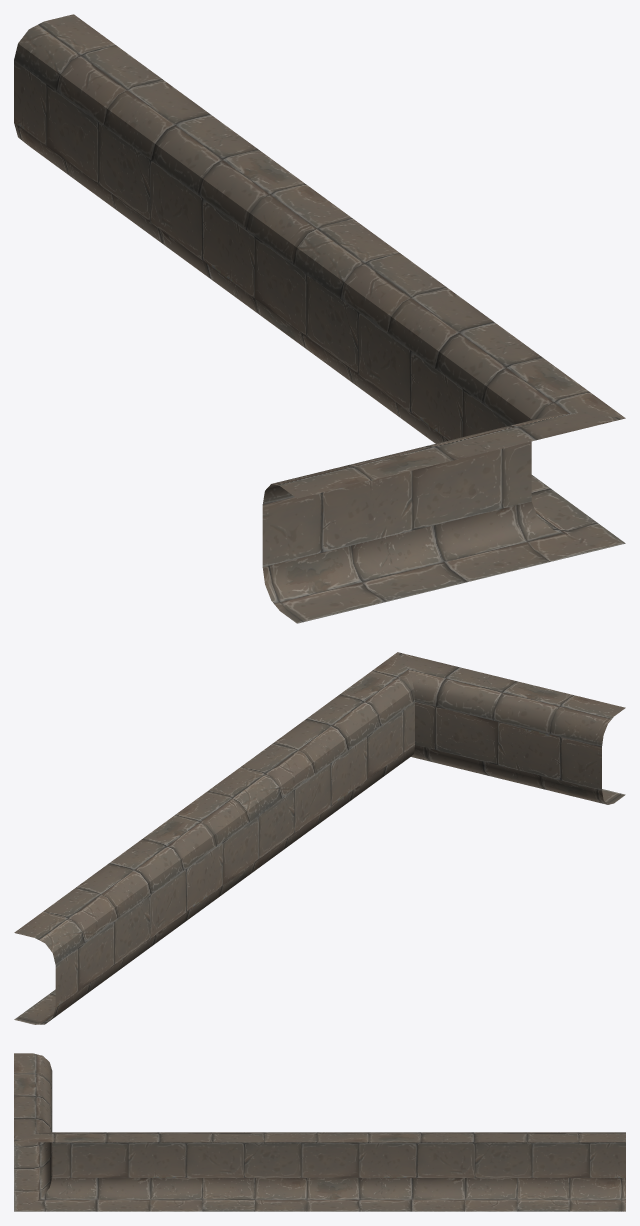
The model's file is Ruins_LedgeCorner_Broken_01a.fbx.
The picture shows the model from 3 angles, top to bottom: view 1: azimuth 30°, elevation 25°; view 2: azimuth 150°, elevation 25°; view 3: azimuth 270°, elevation 25°; orthographic projection. The views are drawn at different scales.
Parts seen in each view (by area): view 1: Ruins_LedgeCorner_Broken_01a; view 2: Ruins_LedgeCorner_Broken_01a; view 3: Ruins_LedgeCorner_Broken_01a.
Part boxes in pixels (bbox=[...]): Ruins_LedgeCorner_Broken_01a: bbox=[14, 14, 625, 623]; Ruins_LedgeCorner_Broken_01a: bbox=[14, 652, 625, 1024]; Ruins_LedgeCorner_Broken_01a: bbox=[14, 1053, 625, 1211].
Bounding box in the file's own units: 2.75 × 1 × 8.
Materials: 1 (1 with a texture image).
